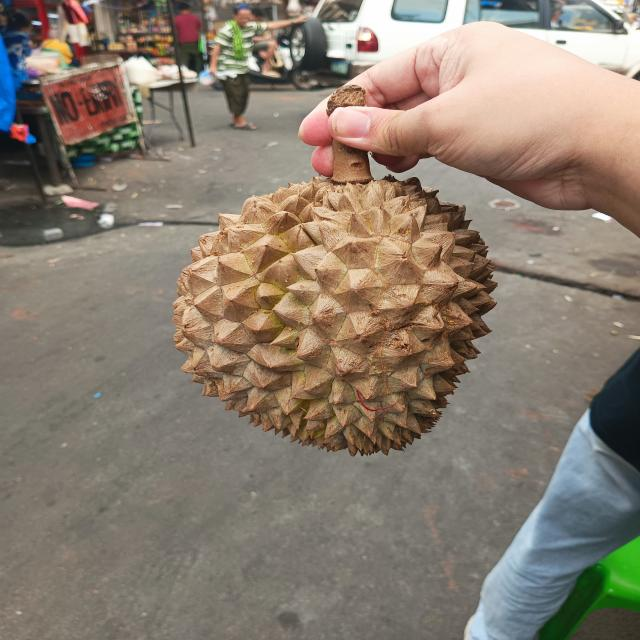mature: (175, 140, 493, 455)
